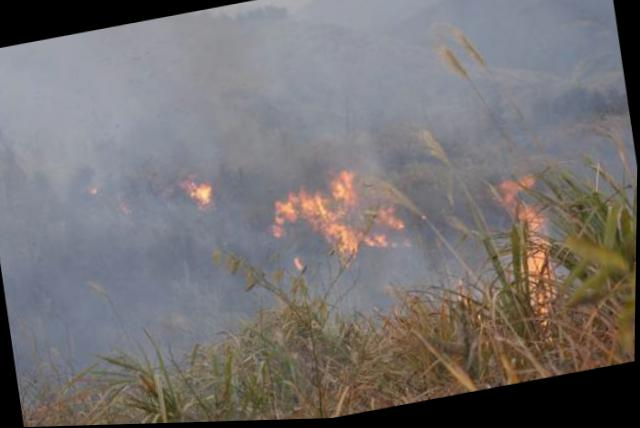fire: (264, 161, 414, 283), (490, 172, 570, 344), (181, 170, 221, 211)
